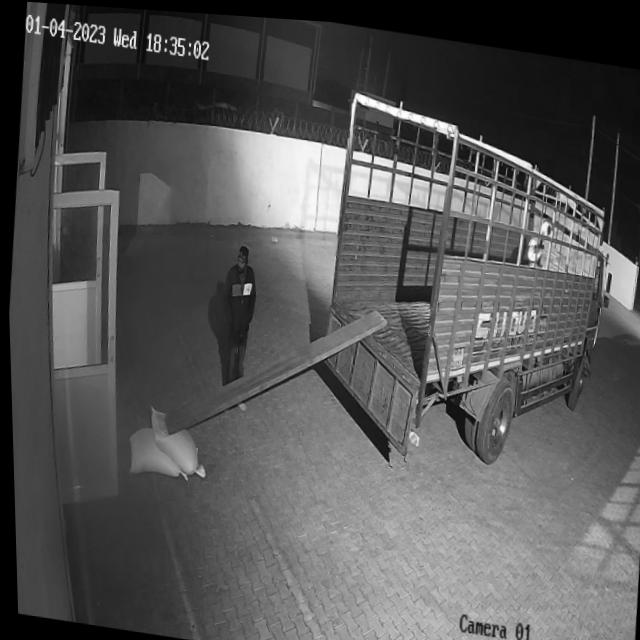sack: (142, 403, 207, 475), (123, 422, 188, 480)
